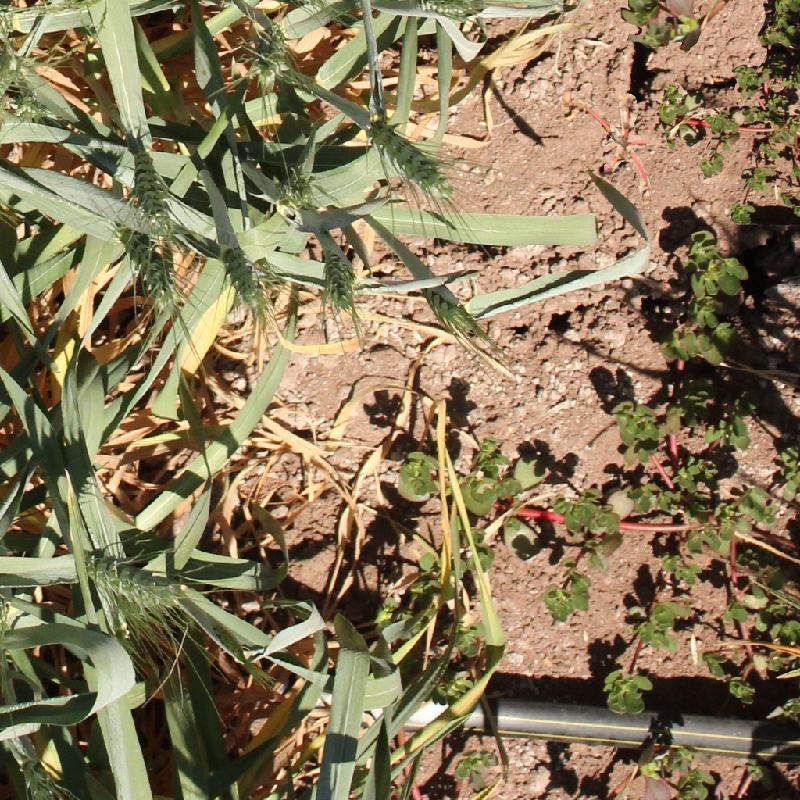spikelet: (364, 121, 452, 198), (413, 267, 490, 349), (82, 553, 183, 613), (122, 230, 181, 312), (130, 147, 177, 235), (245, 19, 293, 85), (220, 245, 267, 308), (317, 250, 362, 309), (272, 166, 320, 216), (407, 1, 484, 24), (4, 92, 55, 125), (1, 50, 29, 102)
weed: (405, 232, 800, 796), (656, 1, 800, 231), (558, 80, 657, 216), (620, 1, 733, 52), (602, 669, 646, 716), (546, 581, 586, 623)
